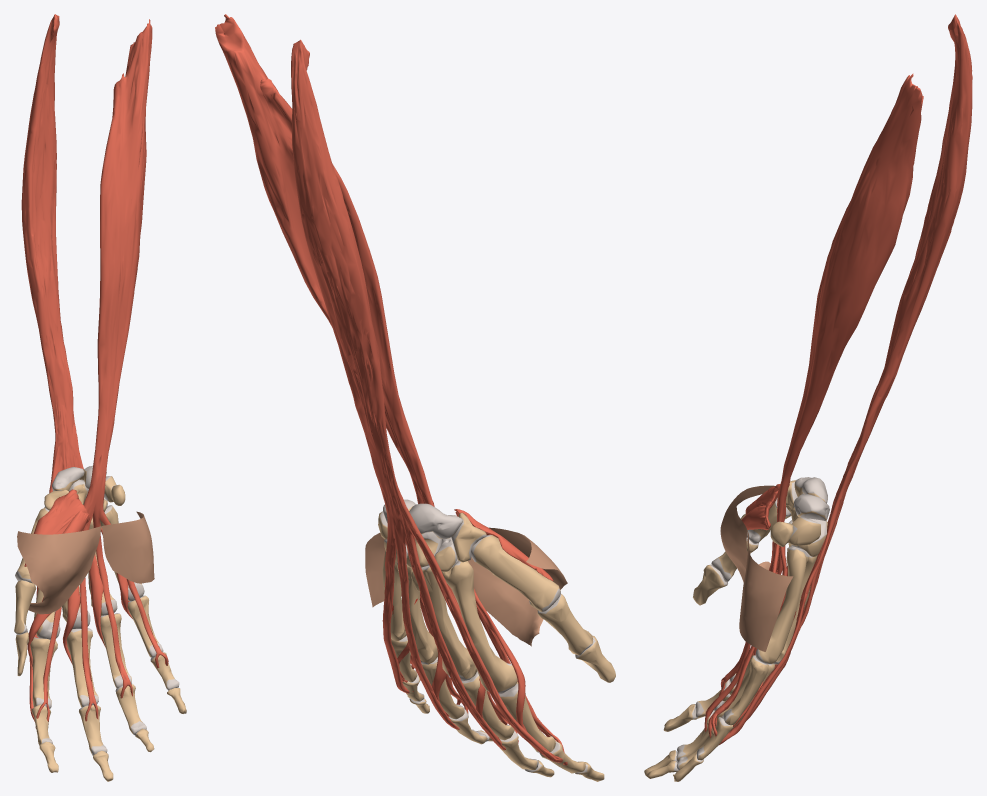
File: hand.glb
3 views of the same model, side by side, from view 1: azimuth 30°, elevation 25°; view 2: azimuth 150°, elevation 25°; view 3: azimuth 270°, elevation 25° (orthographic). The views are drawn at different scales.
Visible parts, largest first — view 1: muscle_flexor_digitorum_superficialis, muscle_extensor_digitorum, bone_phalanges_hand, muscle_thenar_eminence, muscle_hypothenar_eminence, muscle_lumbricals_hand, bone_metacarpals, bone_carpals, muscle_flexor_pollicis_brevis; view 2: muscle_extensor_digitorum, muscle_flexor_digitorum_superficialis, bone_metacarpals, bone_phalanges_hand, muscle_thenar_eminence, bone_carpals, muscle_lumbricals_hand, muscle_hypothenar_eminence, muscle_flexor_pollicis_brevis; view 3: muscle_flexor_digitorum_superficialis, muscle_extensor_digitorum, bone_phalanges_hand, bone_carpals, muscle_hypothenar_eminence, bone_metacarpals, muscle_thenar_eminence, muscle_flexor_pollicis_brevis.
Part boxes in pixels (box(x1,y1,x2,y2)): muscle_flexor_digitorum_superficialis: box(35, 19, 168, 728); muscle_extensor_digitorum: box(21, 14, 129, 721); bone_phalanges_hand: box(14, 580, 186, 781); muscle_thenar_eminence: box(17, 526, 101, 614); muscle_hypothenar_eminence: box(102, 511, 154, 583); muscle_lumbricals_hand: box(27, 554, 132, 669); bone_metacarpals: box(15, 505, 144, 639); bone_carpals: box(44, 465, 125, 511); muscle_flexor_pollicis_brevis: box(24, 489, 90, 566); muscle_extensor_digitorum: box(291, 39, 562, 762); muscle_flexor_digitorum_superficialis: box(215, 14, 567, 765); bone_metacarpals: box(382, 535, 560, 694); bone_phalanges_hand: box(391, 594, 615, 781); muscle_thenar_eminence: box(468, 527, 567, 646); bone_carpals: box(378, 499, 486, 572); muscle_lumbricals_hand: box(397, 589, 526, 737); muscle_hypothenar_eminence: box(365, 533, 401, 607); muscle_flexor_pollicis_brevis: box(454, 509, 553, 580); muscle_flexor_digitorum_superficialis: box(704, 73, 923, 738); muscle_extensor_digitorum: box(718, 14, 972, 745); bone_phalanges_hand: box(644, 538, 775, 781); bone_carpals: box(770, 477, 829, 556); muscle_hypothenar_eminence: box(739, 531, 793, 651); bone_metacarpals: box(740, 498, 817, 664); muscle_thenar_eminence: box(720, 485, 775, 582); muscle_flexor_pollicis_brevis: box(741, 484, 780, 530).
Size of the model in its own units: 0.1507 by 0.4203 by 0.1553.
